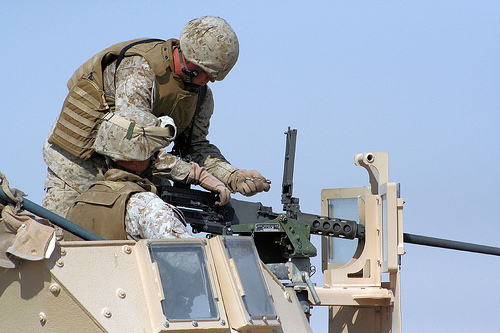rifle: (274, 126, 499, 264)
rifle in hand: (194, 114, 498, 265)
